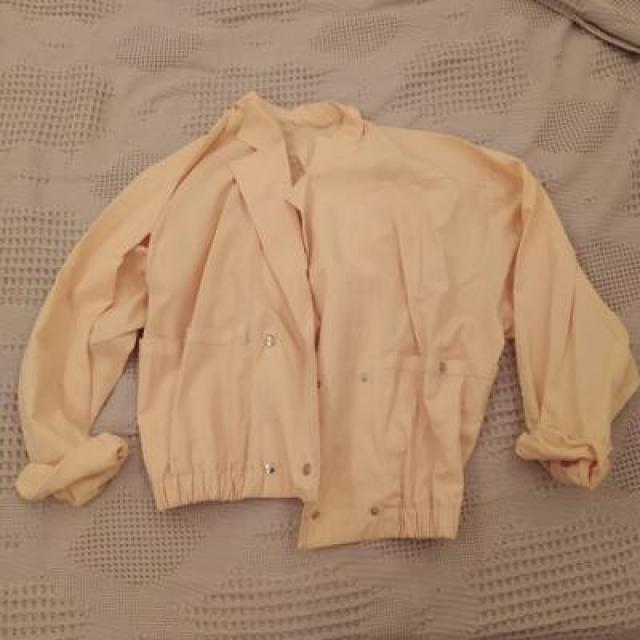Clothes -Biodegradable-: (9, 99, 636, 545)
